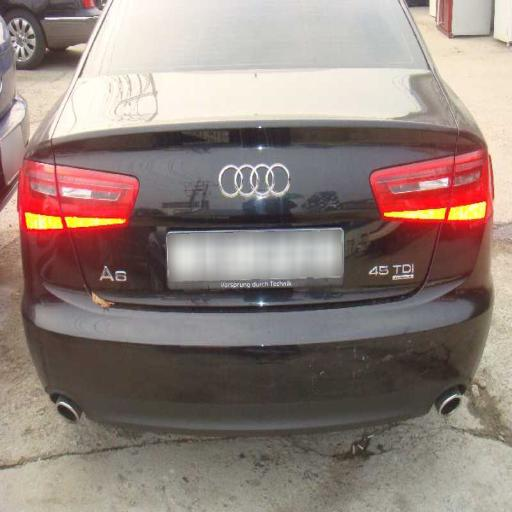scratch: (9, 29, 382, 166)
